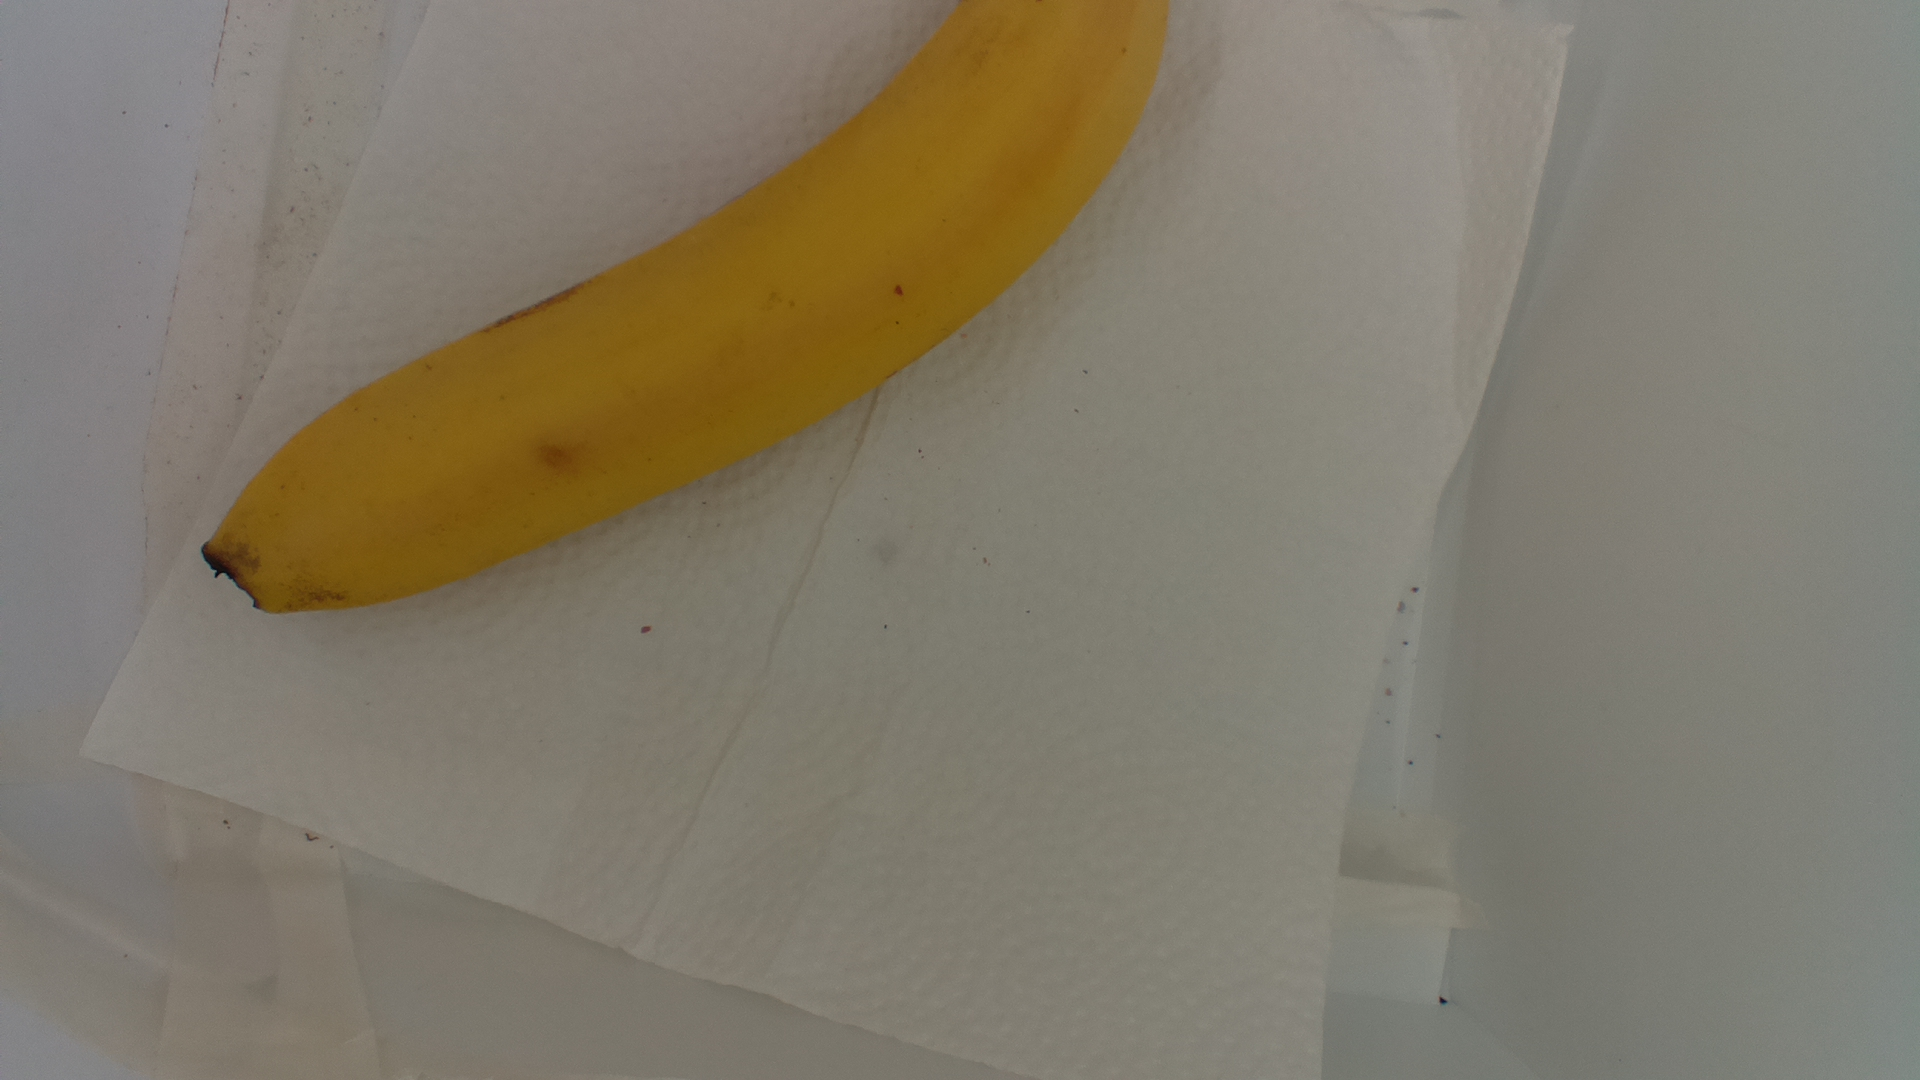fruit: (193, 1, 1167, 620)
